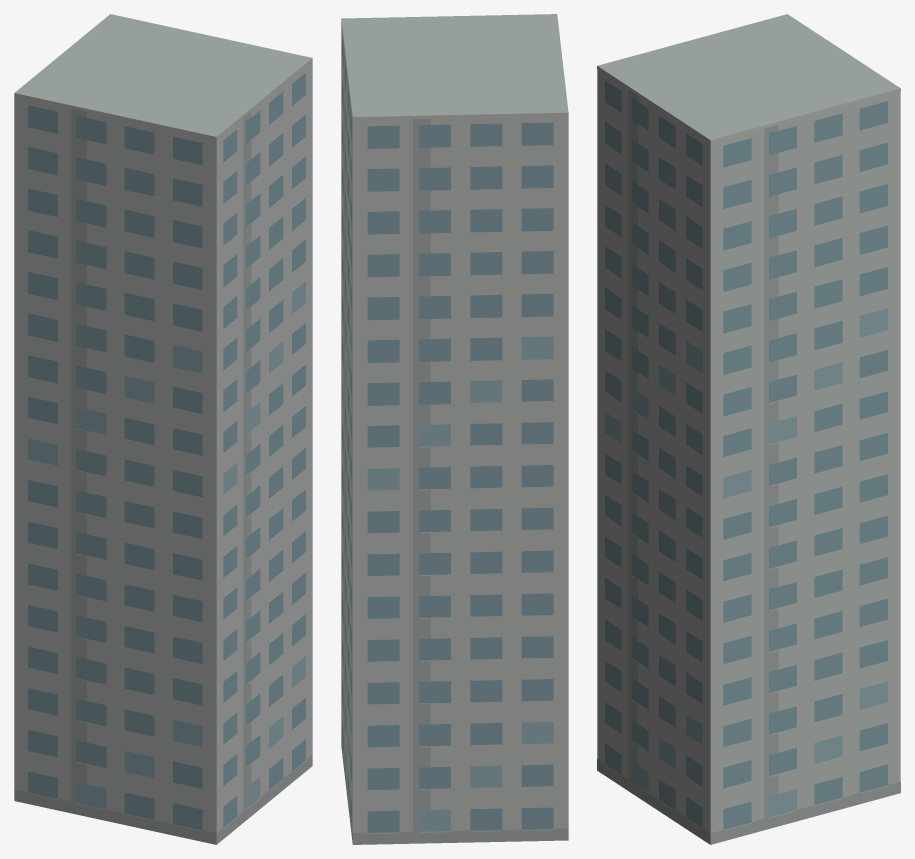
Rendered from residential-fbe0d033-5196-43bb-a730-c83d927363ce.glb.
3 renders of one model, left to right at view 1: azimuth 30°, elevation 25°; view 2: azimuth 150°, elevation 25°; view 3: azimuth 270°, elevation 25°, orthographic. The views are drawn at different scales.
Visible parts, largest first — view 1: residential-fbe0d033-5196-43bb-a730-c83d927363ce.tmp; view 2: residential-fbe0d033-5196-43bb-a730-c83d927363ce.tmp; view 3: residential-fbe0d033-5196-43bb-a730-c83d927363ce.tmp.
Part boxes in pixels (bbox=[...]): residential-fbe0d033-5196-43bb-a730-c83d927363ce.tmp: bbox=[14, 14, 312, 844]; residential-fbe0d033-5196-43bb-a730-c83d927363ce.tmp: bbox=[341, 14, 568, 844]; residential-fbe0d033-5196-43bb-a730-c83d927363ce.tmp: bbox=[597, 14, 900, 844].
Size of the model in its own units: 20.74 by 54 by 21.09.
